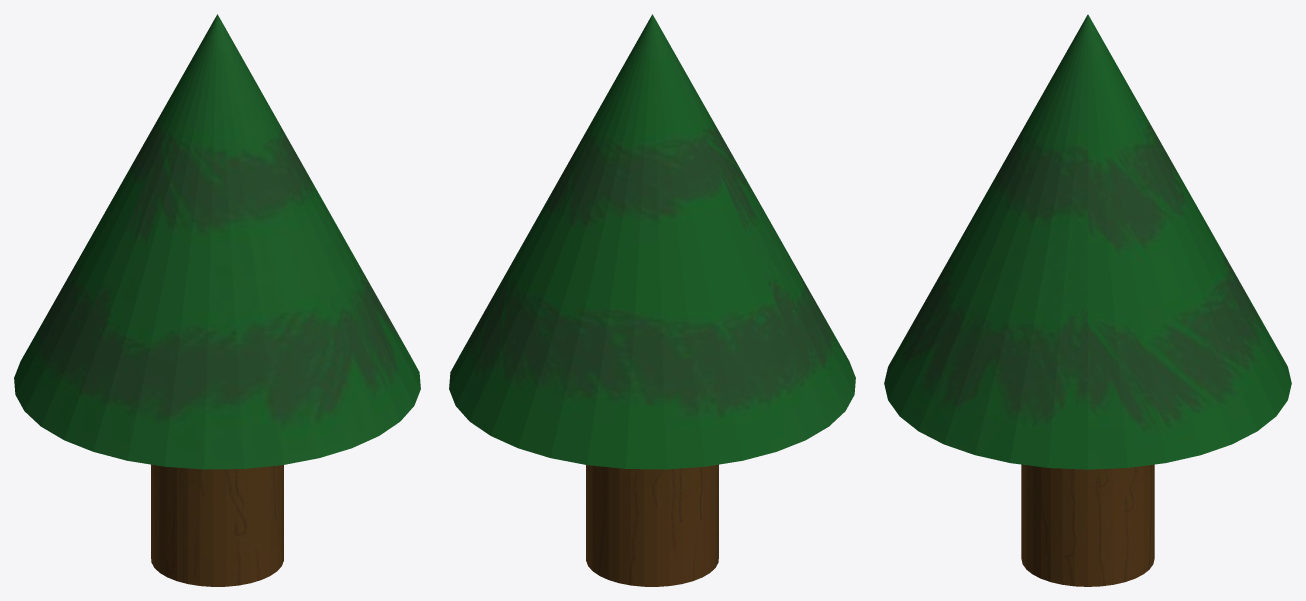
File: tree.obj
The picture shows the model from 3 angles, left to right: view 1: azimuth 30°, elevation 25°; view 2: azimuth 150°, elevation 25°; view 3: azimuth 270°, elevation 25°; orthographic projection.
Parts seen in each view (by area): view 1: Cone; view 2: Cone; view 3: Cone.
Part boxes in pixels (bbox=[...]): Cone: bbox=[14, 14, 420, 586]; Cone: bbox=[449, 14, 855, 586]; Cone: bbox=[884, 14, 1291, 586].
Size of the model in its own units: 2 by 2.95 by 2.
Materials: 1 (1 with a texture image).
